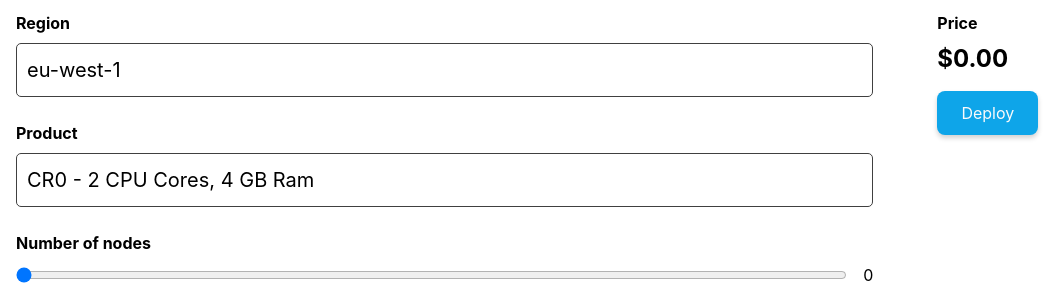
Test case: The DeployPage component › should calculate price given selected region, product and number of nodes
Select "ap-southeast-1" in the dropdown named "region": (445, 70) [27, 49, 862, 91]
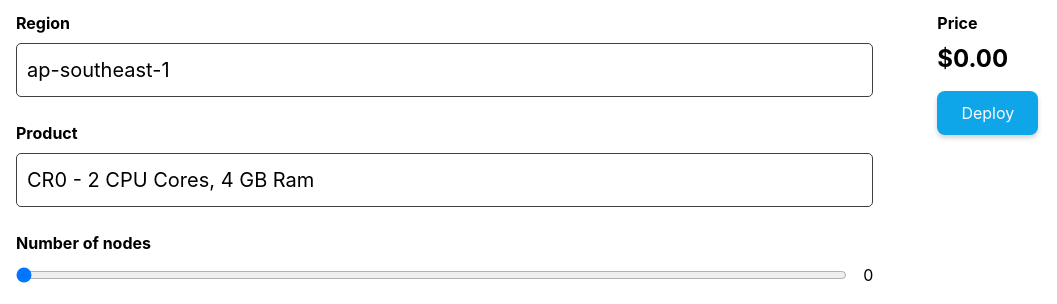
Set the slider named "nodes" to "1": (839, 275) [16, 263, 847, 287]
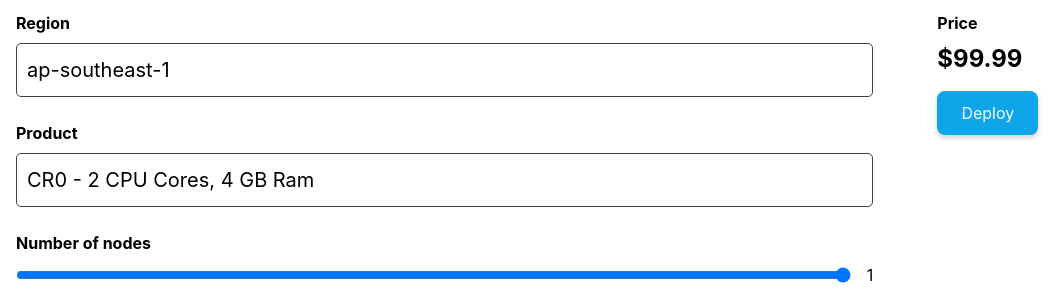
Check: the text named "price" reads "$99.99", box [937, 44, 1022, 73]
